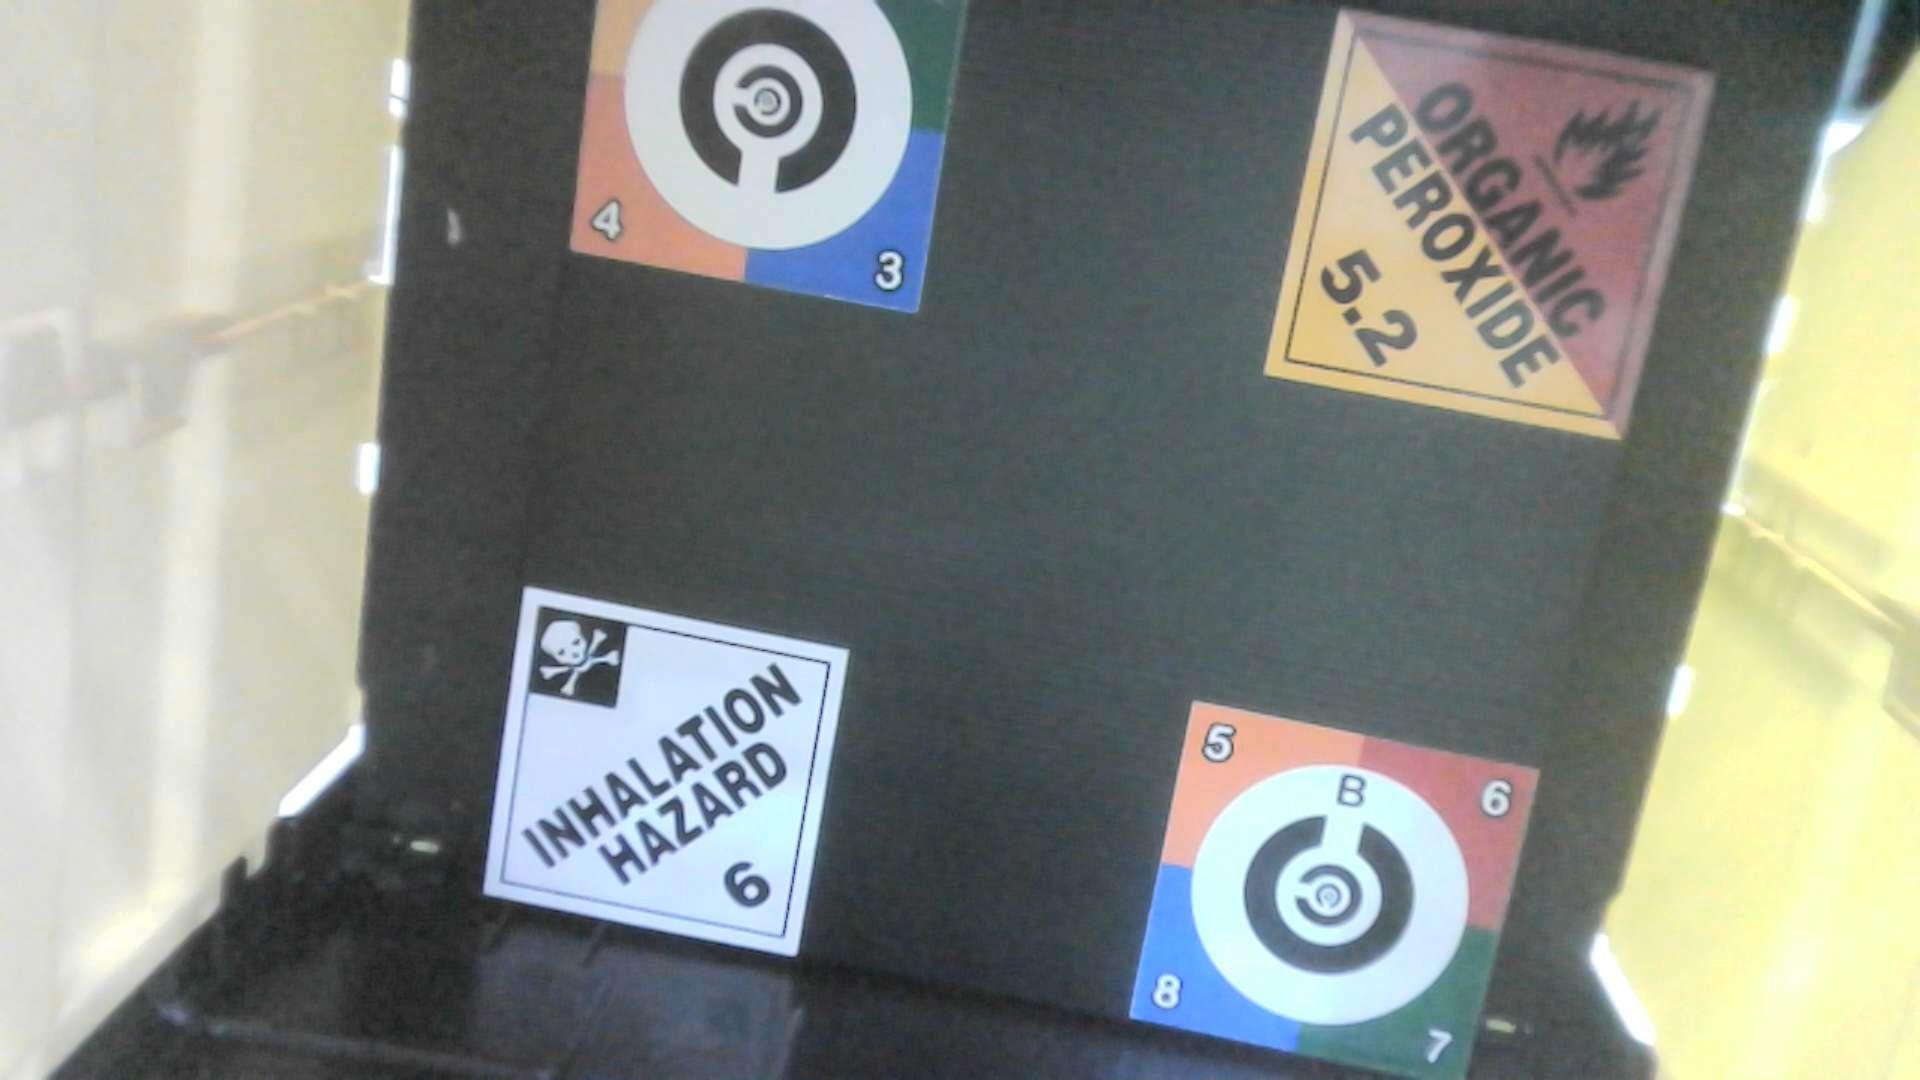organic-peroxide: (1267, 4, 1718, 455)
poison: (464, 579, 858, 968)
